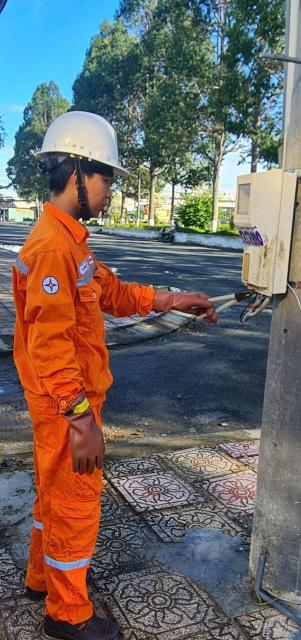gloves: (128, 281, 230, 334), (63, 391, 118, 485)
helmet: (17, 100, 140, 187)
shoes: (35, 606, 129, 640), (14, 572, 61, 608)
